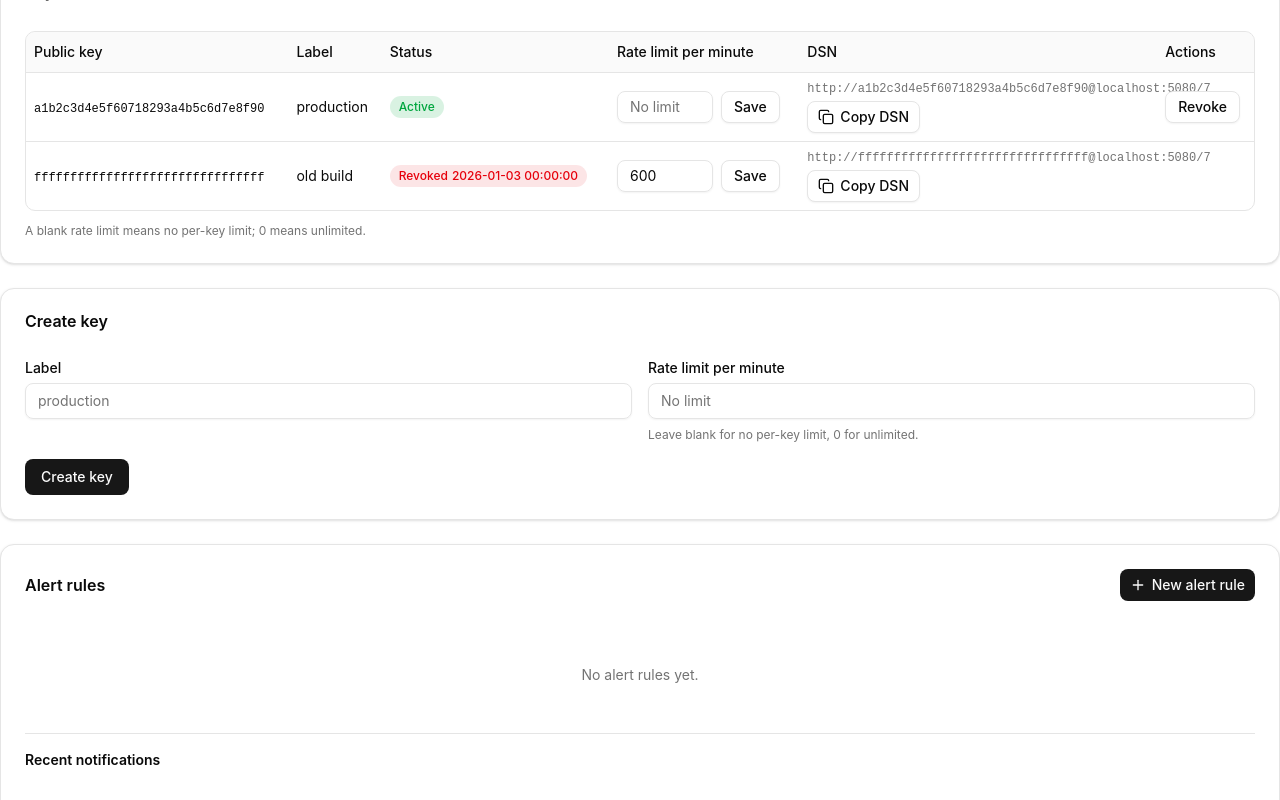
ProjectDetailPage › creates a key, shows its DSN with a copy button and refreshes the list
(page scrolled)
In the field labelled "Label": {"x": 328, "y": 400} [25,382,632,418], type "staging"
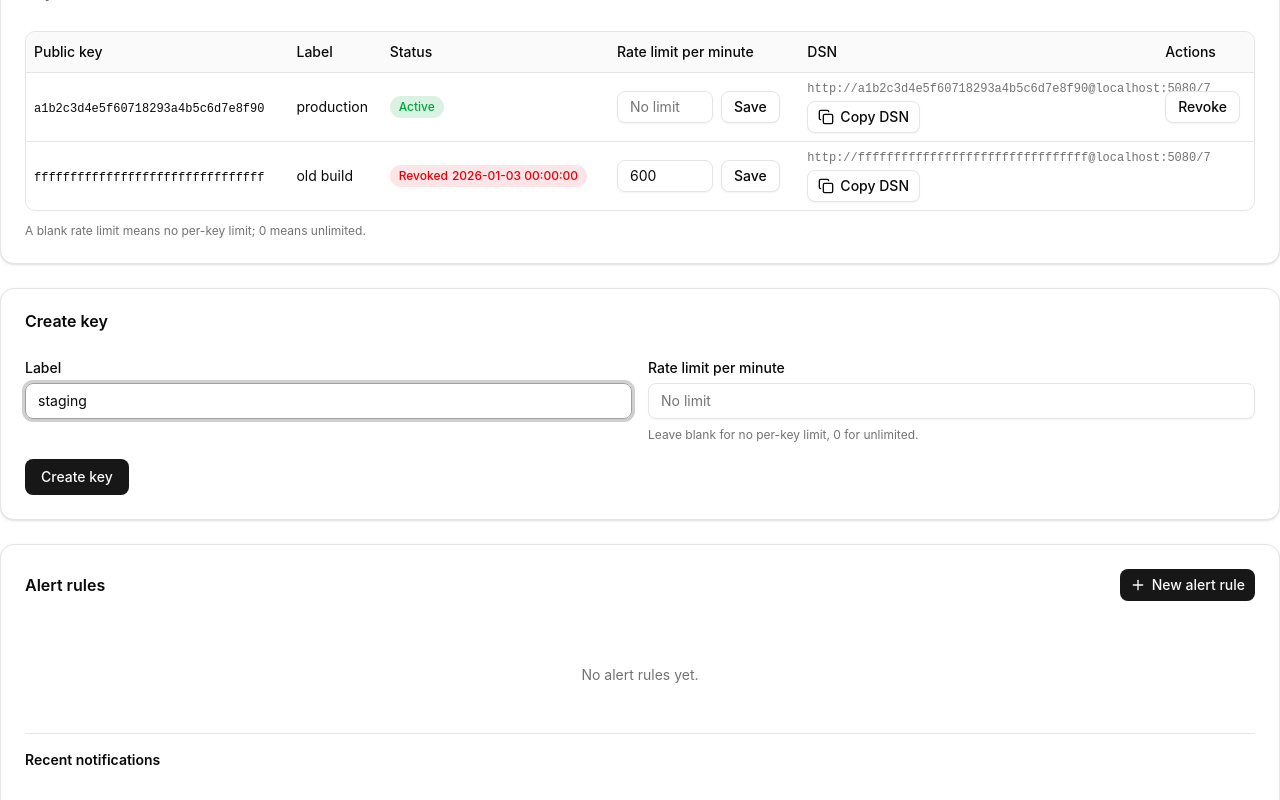
In the field labelled "Rate limit per minute": {"x": 952, "y": 400} [648,382,1255,418], type "600"
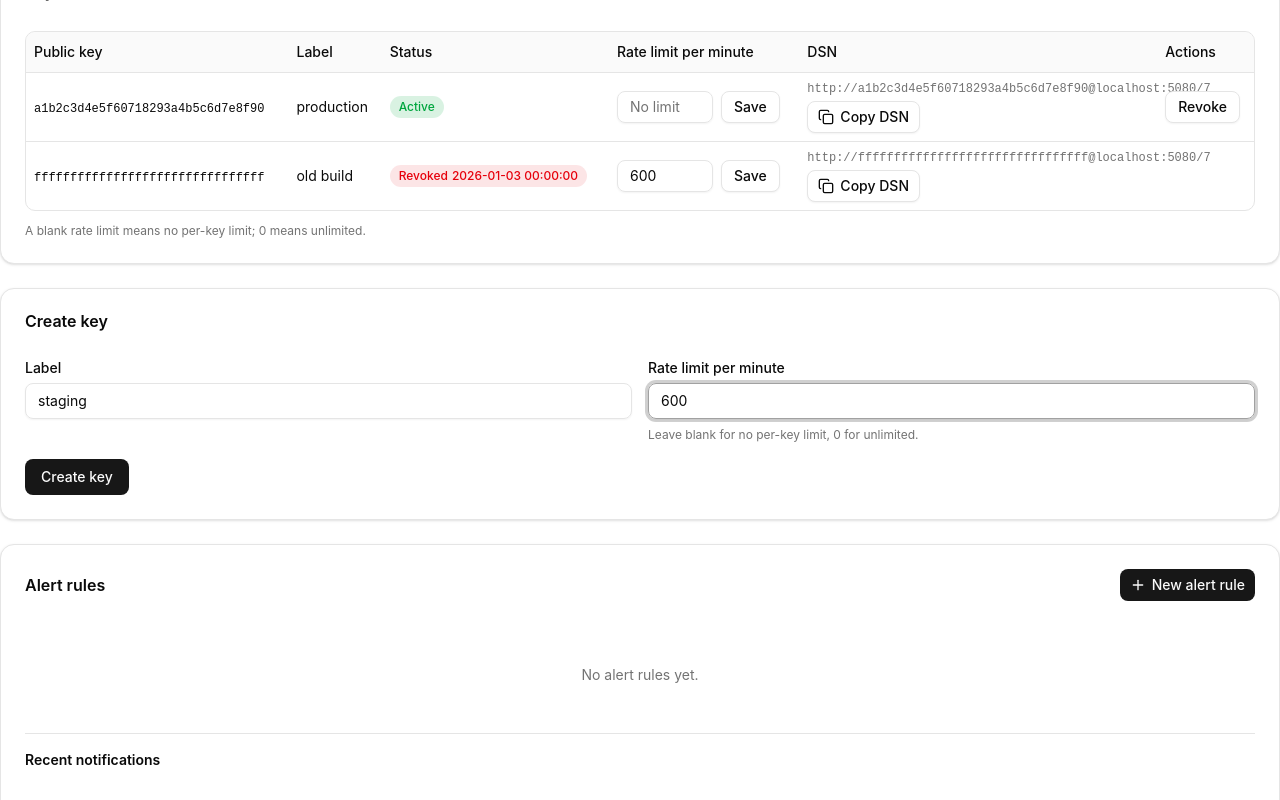
Click the button "Create key": {"x": 77, "y": 476} [25,458,129,494]
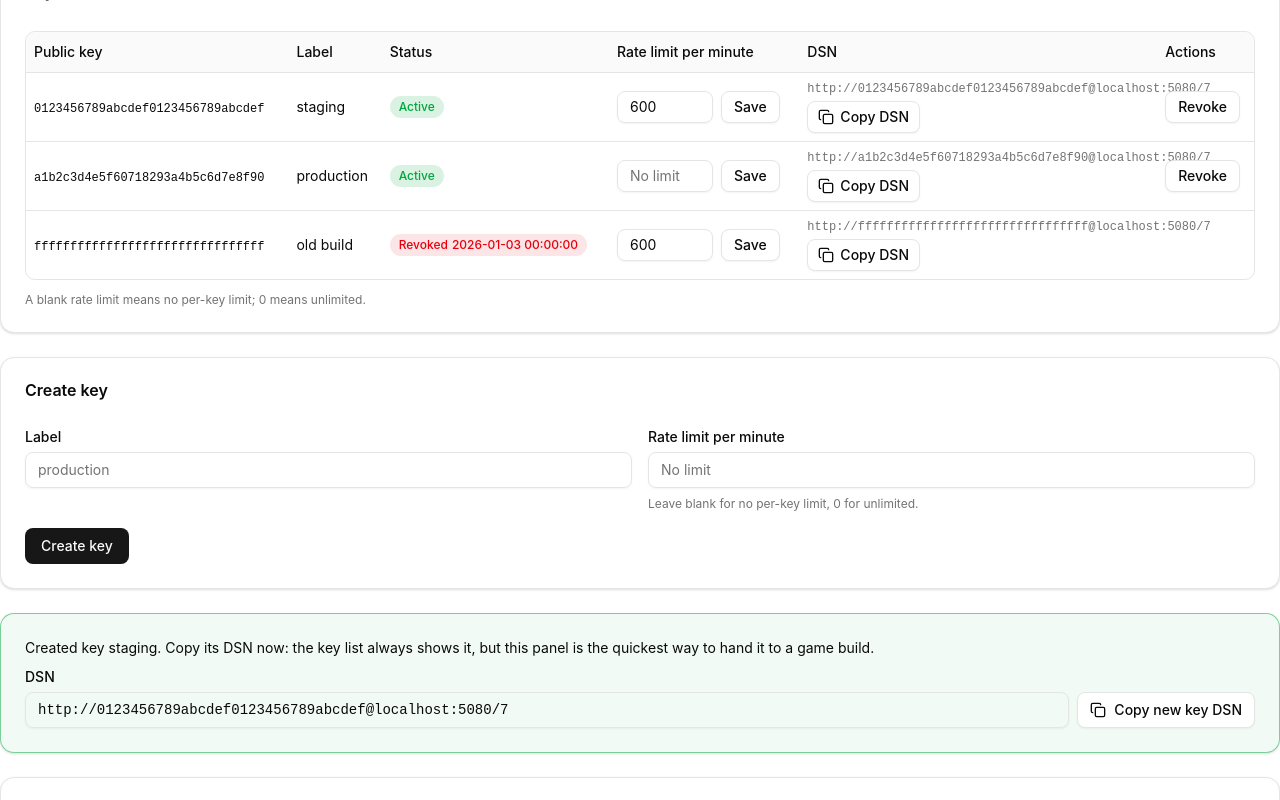
Now the field labelled "DSN" holds "http://0123456789abcdef0123456789abcdef@localhost:5080/7", box [25,692,1069,728]
Now the button "Copy new key DSN" is shown
Now the text "0123456789abcdef0123456789abcdef" is shown, box [34,102,264,116]
Click the button "Copy new key DSN": {"x": 1166, "y": 710} [1077,692,1255,728]
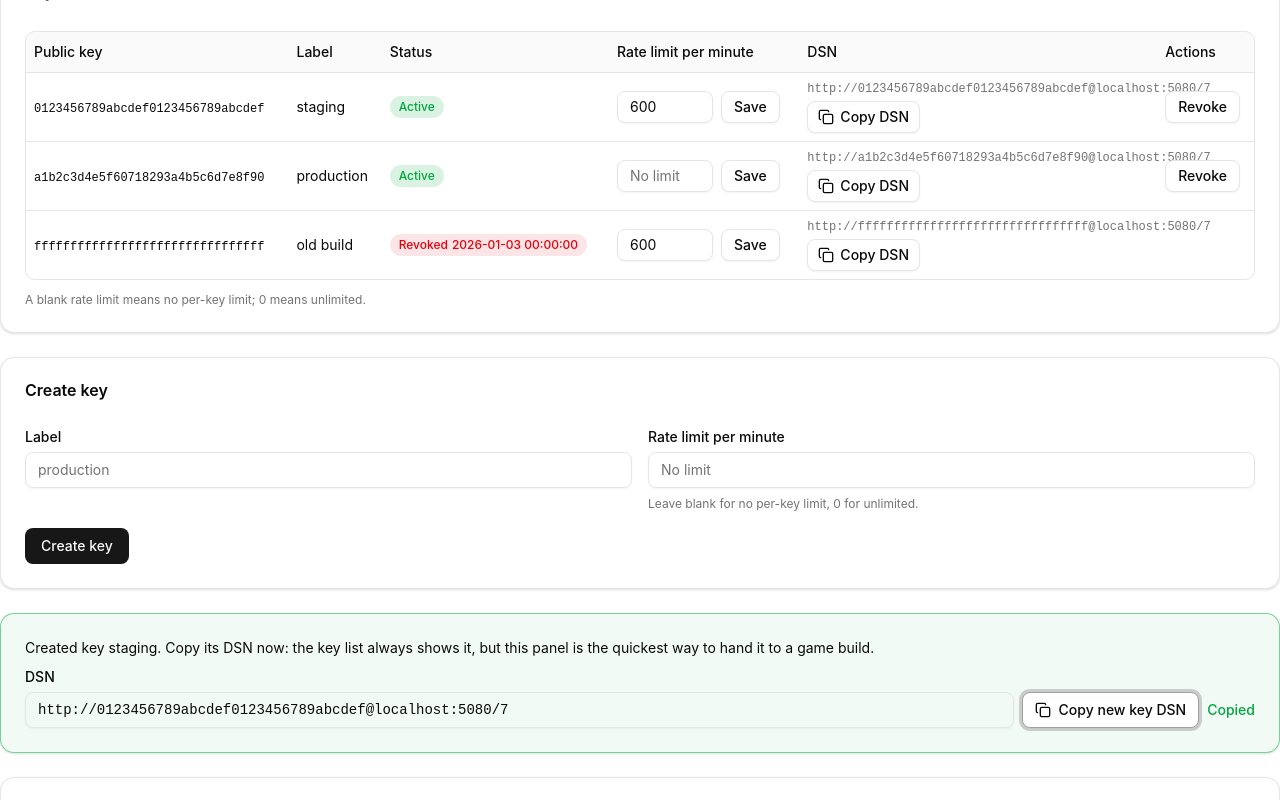
Now the message reads "Copied", box [1207,700,1255,718]
